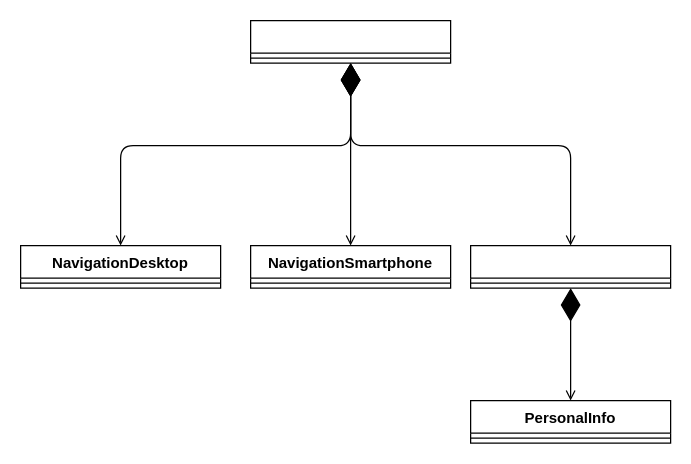
Image size: 691x464. Some labels were removed from this diagram. Here are the shapes that lost their labels. From the top down, the box of each, then its label:
(249, 19, 451, 63): profileSettings
(469, 244, 671, 288): SettingsContenet
